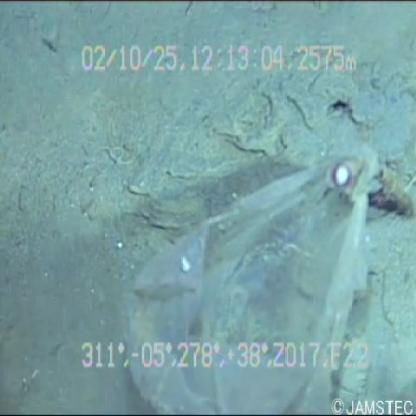Rác: (115, 112, 382, 416)
